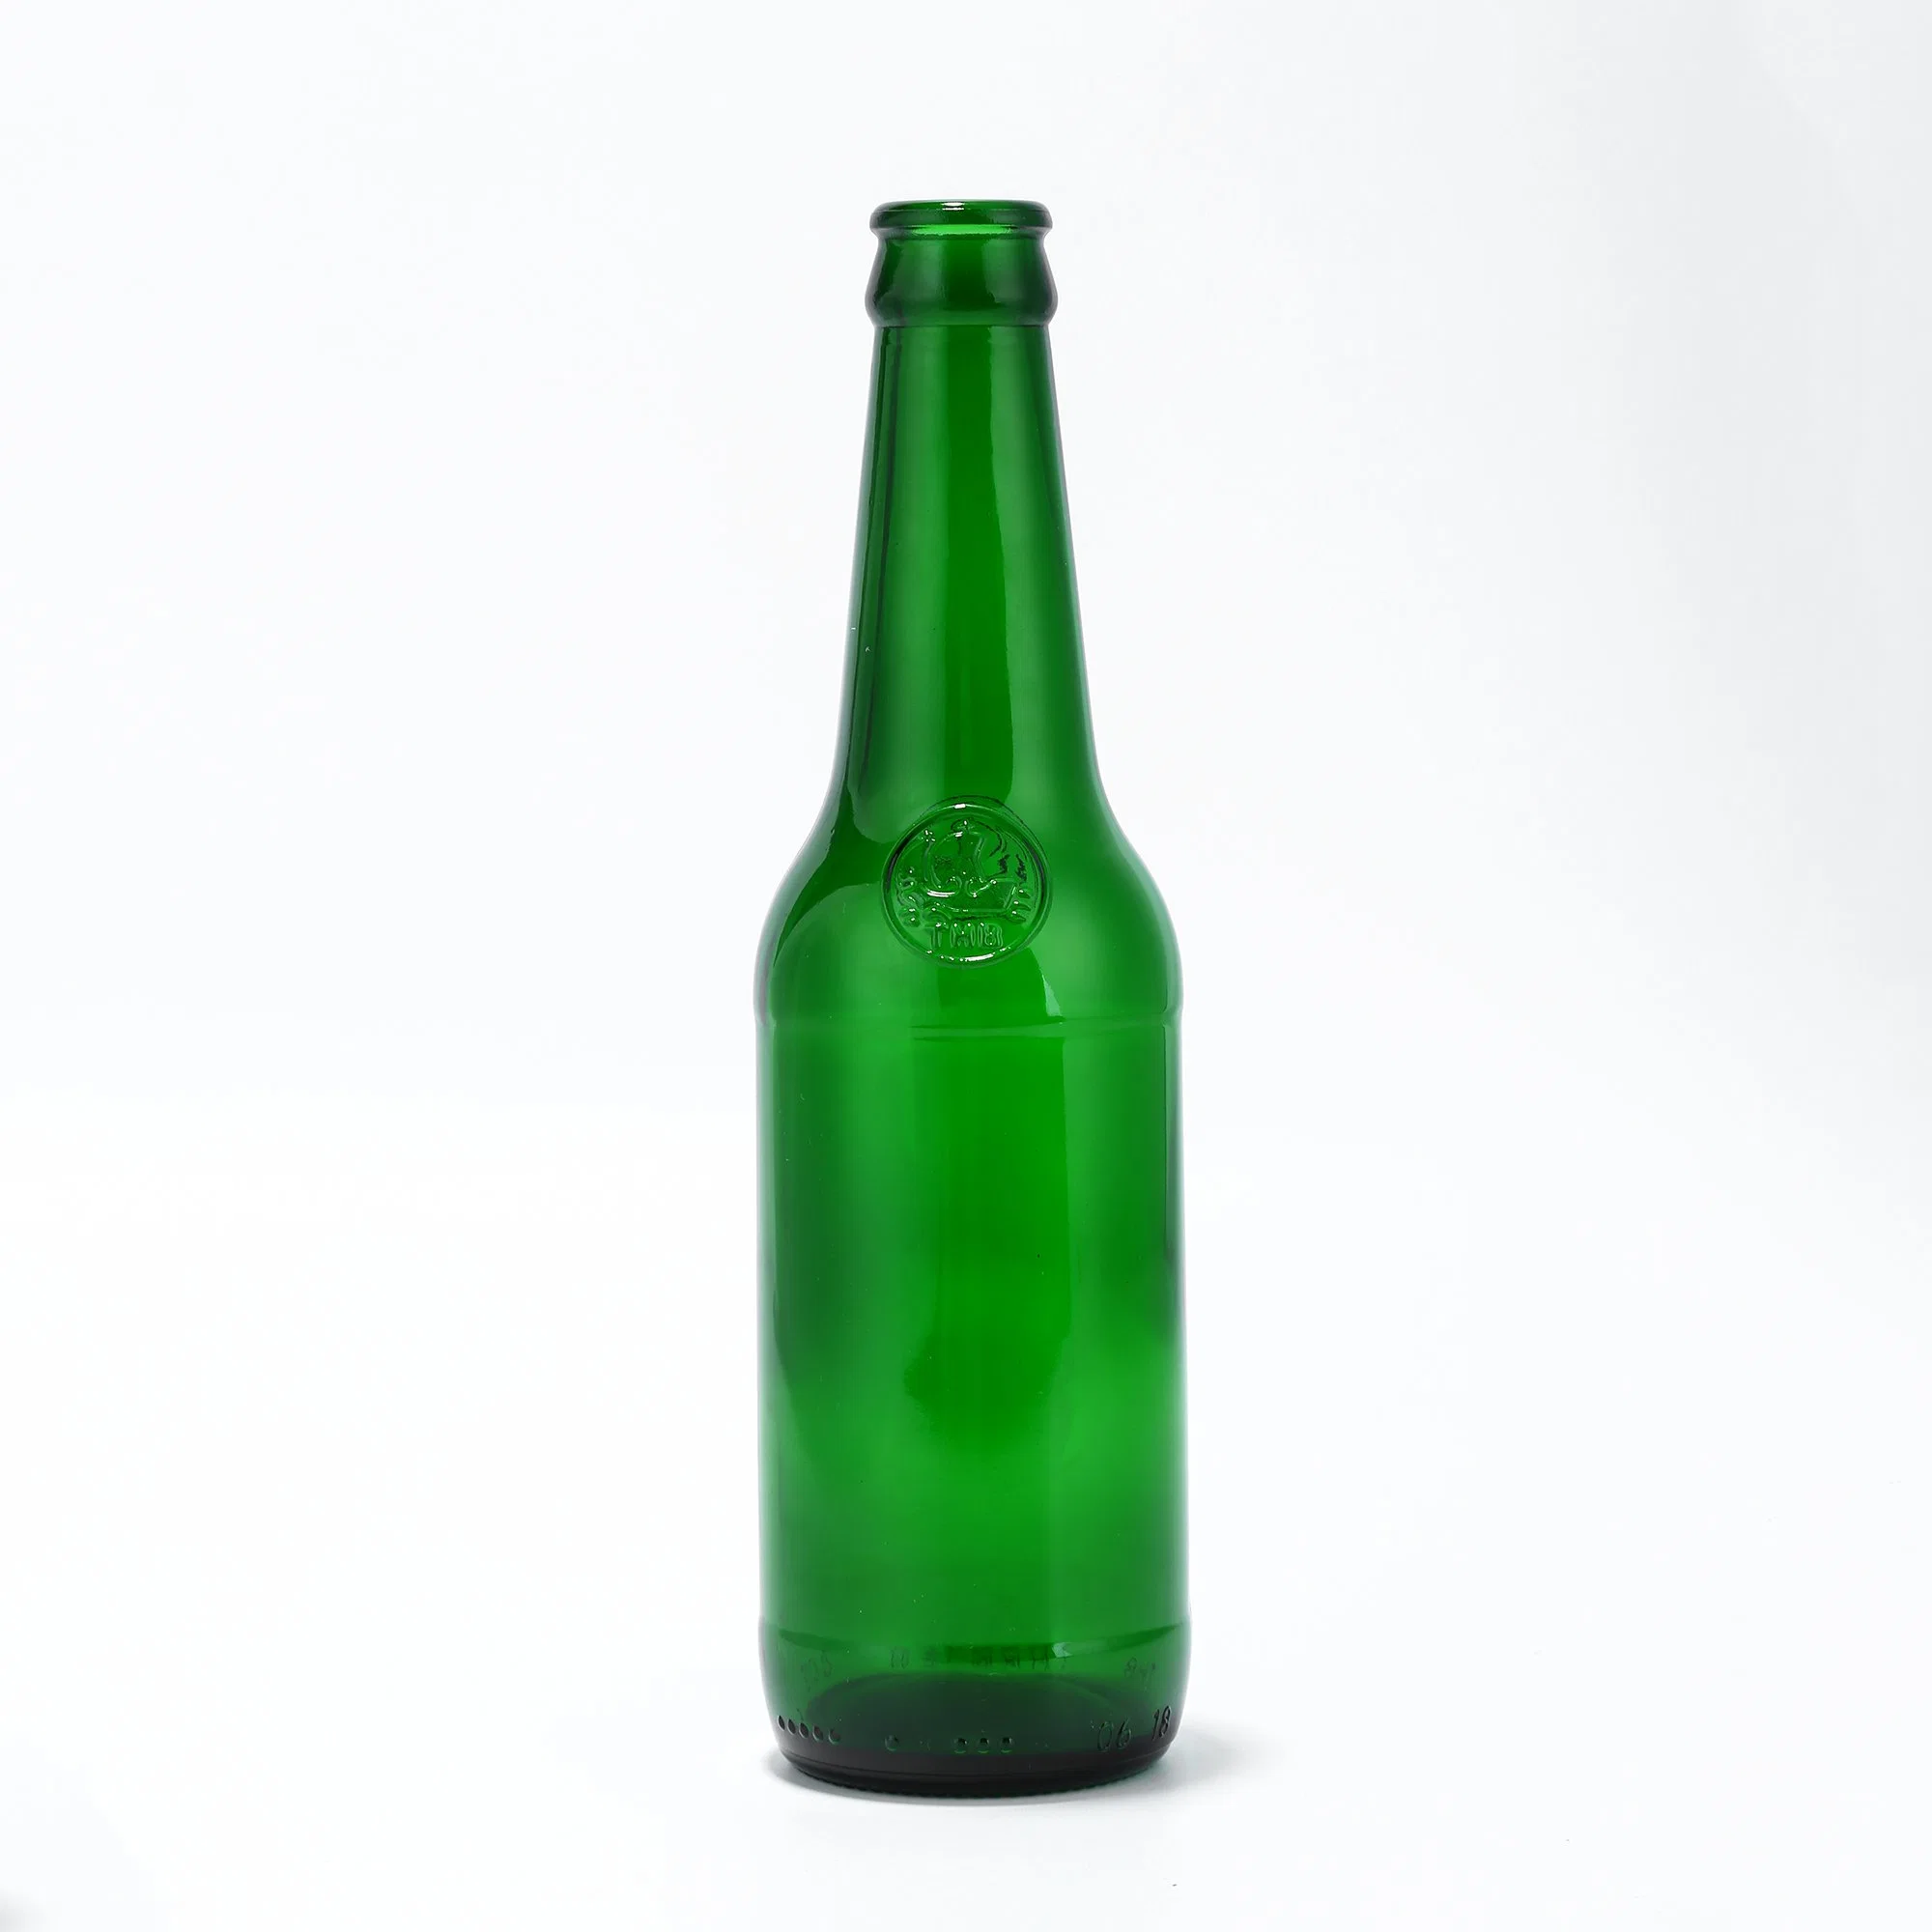glass_bottle: (683, 143, 1246, 1836)
